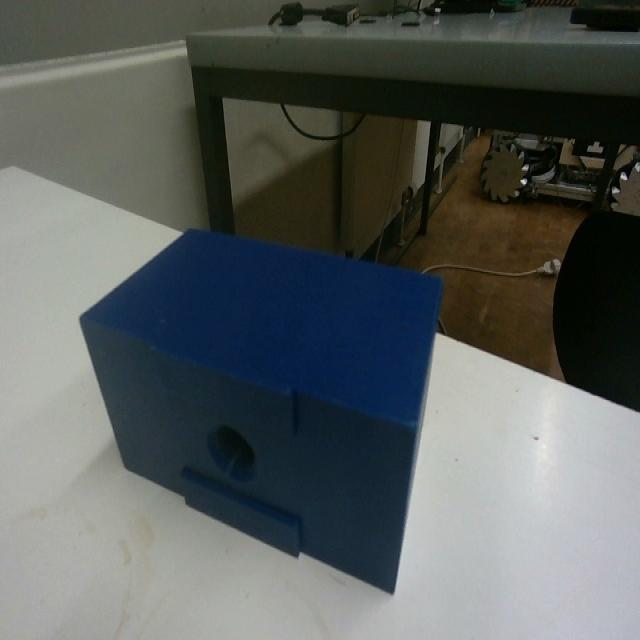Blue Cuboid: (77, 222, 444, 594)
